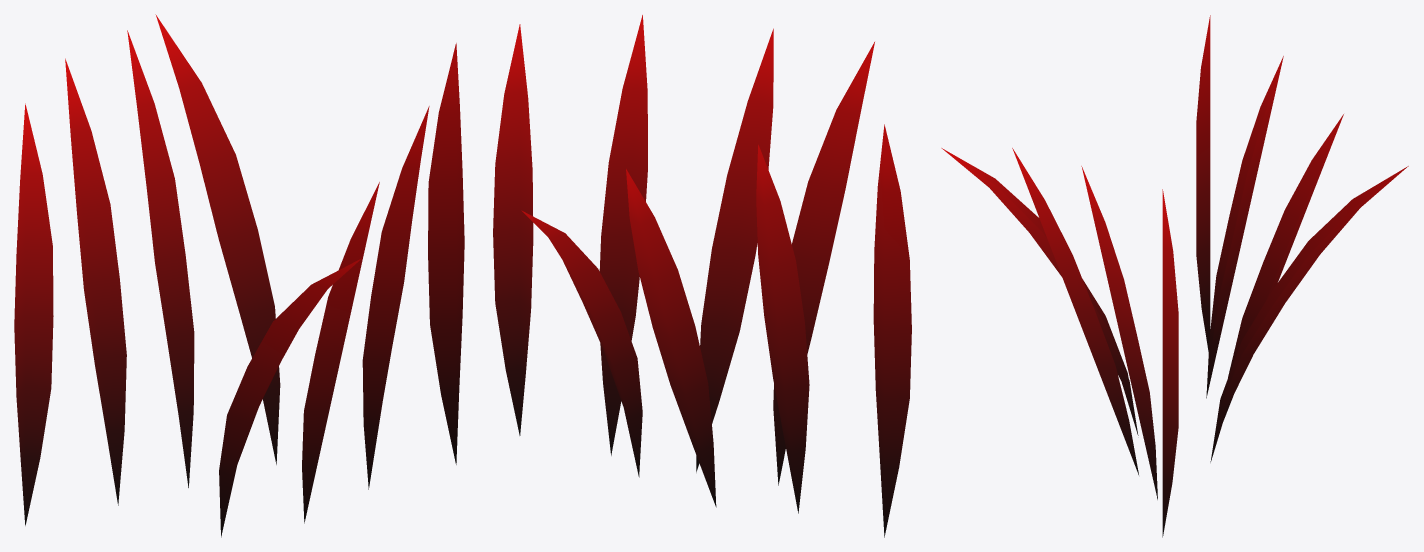
File: Grass.fbx
3 renders of one model, left to right at view 1: azimuth 30°, elevation 25°; view 2: azimuth 150°, elevation 25°; view 3: azimuth 270°, elevation 25°, orthographic. The views are drawn at different scales.
Visible parts, largest first — view 1: Plane.002; view 2: Plane.002; view 3: Plane.002.
Part boxes in pixels (x1=…): Plane.002: x1=14, y1=14, x2=464, y2=537; Plane.002: x1=493, y1=15, x2=911, y2=537; Plane.002: x1=941, y1=15, x2=1408, y2=537.
Size of the model in its own units: 1.3 by 1.27 by 1.46.
